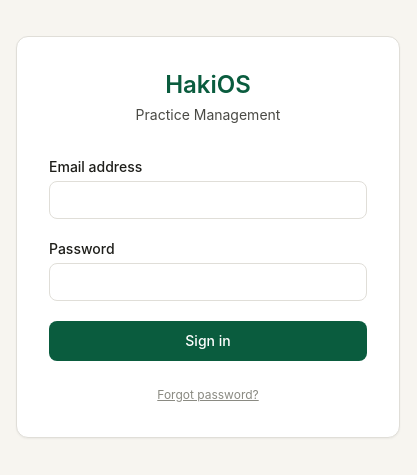
it: LoginPage › shows an error message on failed login
The width and height of the screenshot is (417, 475).
Type "a@b.com" into the field labelled "Email address".
click(208, 200); type("a@b.com")  # box left=49, top=181, right=367, bottom=219
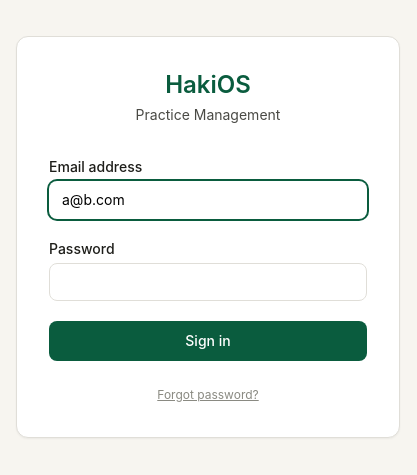
Type "Wrong@1!" into the password field labelled "Password".
click(208, 282); type("Wrong@1!")  # box left=49, top=263, right=367, bottom=301
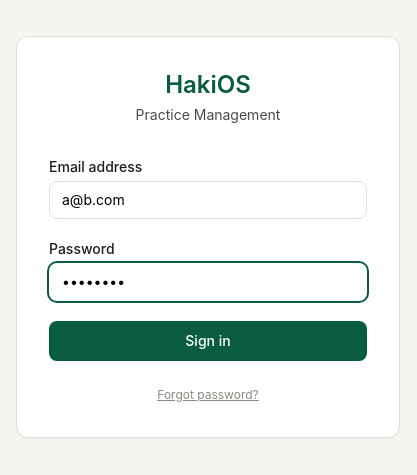
Click the button "Sign in".
click(208, 341)  # box left=49, top=321, right=367, bottom=361
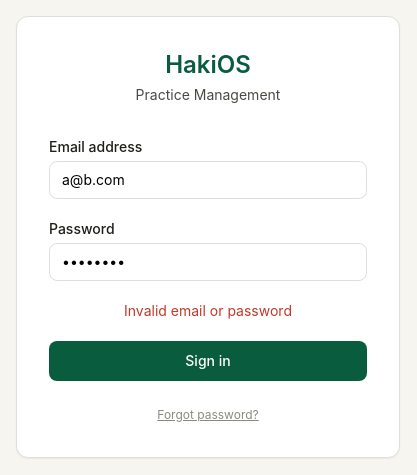
Expected: the text "Invalid email or password" is shown, left=124, top=302, right=292, bottom=319
